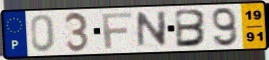0: (29, 13, 57, 54)
3: (64, 10, 90, 54)
9: (210, 6, 240, 47)
B: (174, 8, 209, 49)
F: (100, 11, 134, 50)
N: (135, 10, 169, 50)
